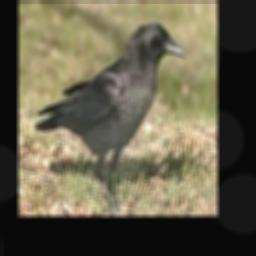Crow: (35, 20, 186, 216)
